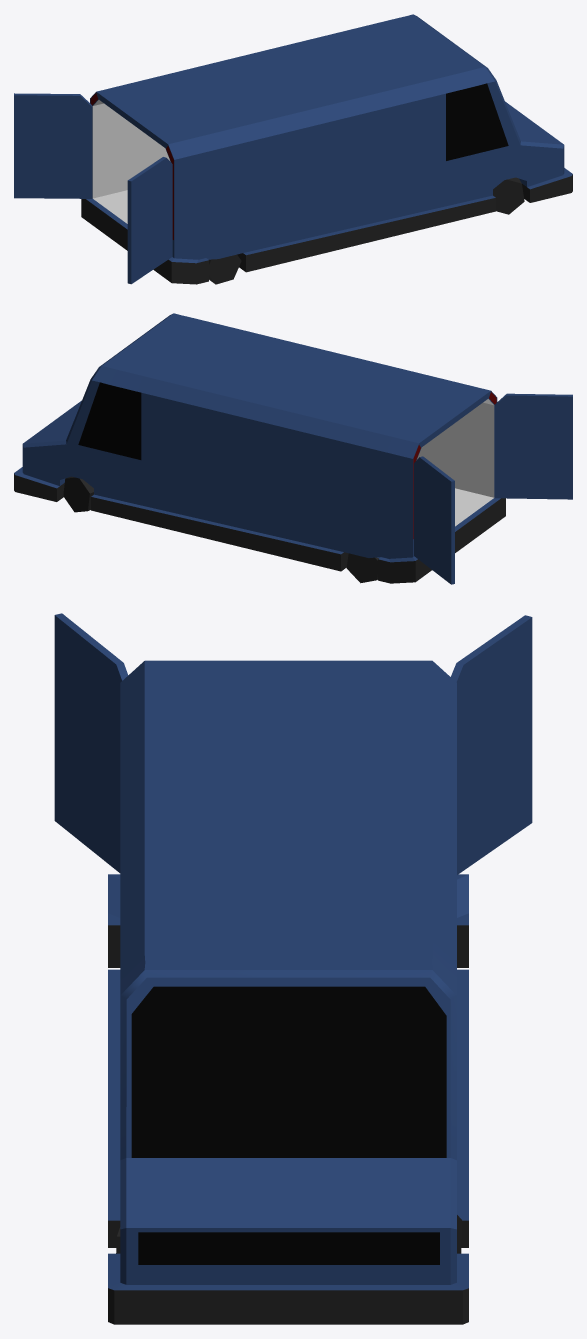
Rendered from SM_Truck.fbx.
3 renders of one model, top to bottom at view 1: azimuth 30°, elevation 25°; view 2: azimuth 150°, elevation 25°; view 3: azimuth 270°, elevation 25°, orthographic. The views are drawn at different scales.
Visible parts, largest first — view 1: Truck; view 2: Truck; view 3: Truck.
Boxes of the visible parts, box(x1,y1,x2,y2) form: Truck: box(14, 14, 572, 284); Truck: box(14, 313, 572, 584); Truck: box(54, 613, 532, 1324).
Bounding box in the file's own units: 1353 × 420 × 611.
